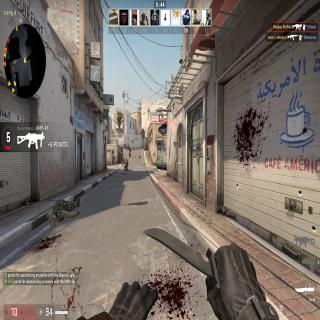CT-Body: (124, 158, 128, 170), (129, 146, 131, 156)
CT-Head: (125, 158, 127, 161), (129, 146, 130, 148)
